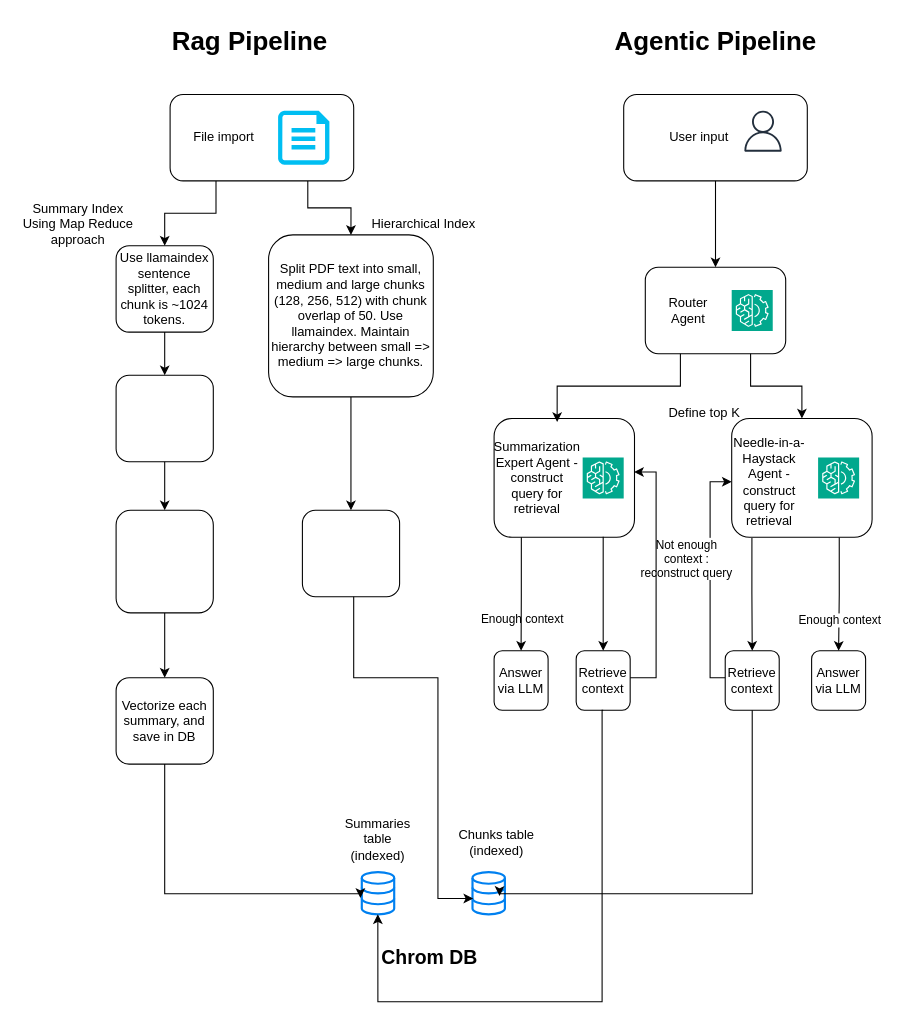
Some shapes in this 900 by 1029 pixel diagram are drawn without their labels. Here are the shapes that lost their labels. From the top down, the centre of each, then its label:
the point at 164,418: Summarize each chunk
the point at 164,561: Aggregate all summaries and summarize them into a document level summary
the point at 350,553: Vectorize each chunk, and save in DB
